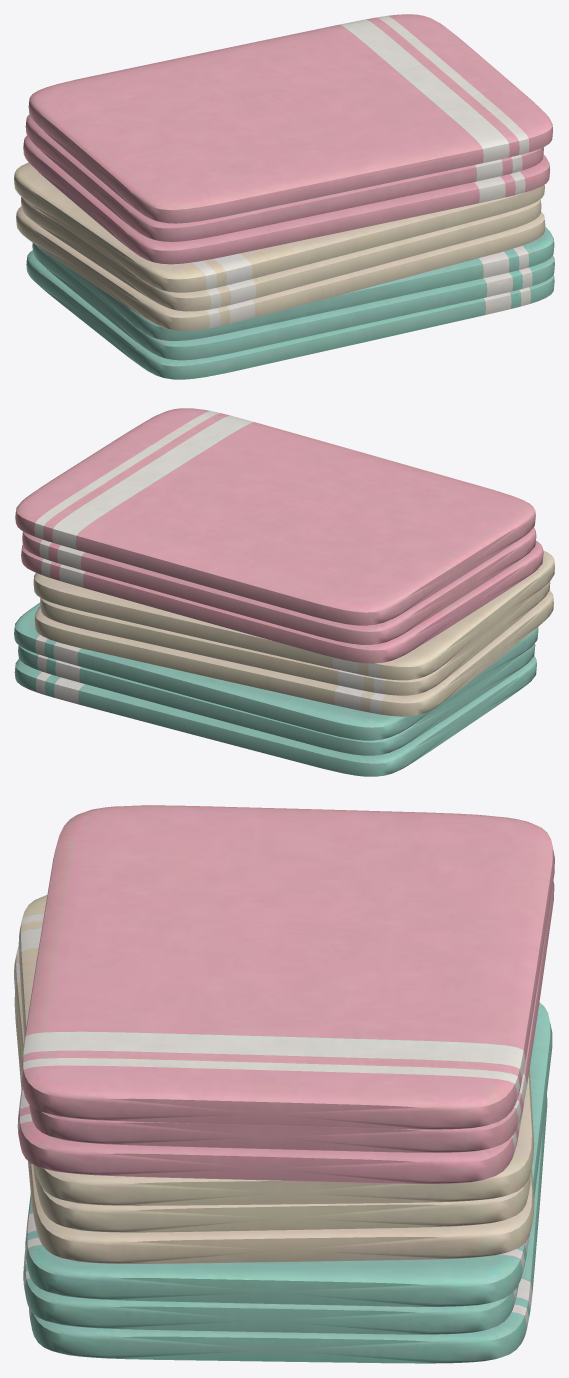
The model's file is toallas.glb.
3 views of the same model, one above another, from view 1: azimuth 30°, elevation 25°; view 2: azimuth 150°, elevation 25°; view 3: azimuth 270°, elevation 25° (orthographic). The views are drawn at different scales.
Visible parts, largest first — view 1: bath-towel_body; view 2: bath-towel_body; view 3: bath-towel_body.
Part boxes in pixels (x1,y1,x2,y2): bath-towel_body: (14, 14, 554, 379); bath-towel_body: (14, 408, 554, 776); bath-towel_body: (14, 805, 554, 1363).
Bounding box in the file's own units: 0.381 × 0.153 × 0.2793.
Materials: 1 (1 with a texture image).
